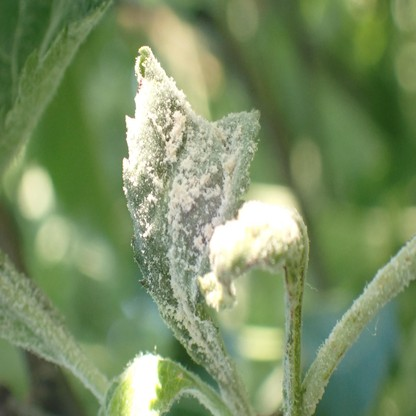powdery_mildew: (122, 44, 259, 387), (199, 198, 310, 308), (0, 247, 74, 364)
